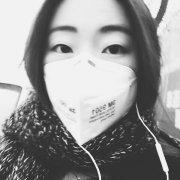OK: (38, 21, 144, 138)
